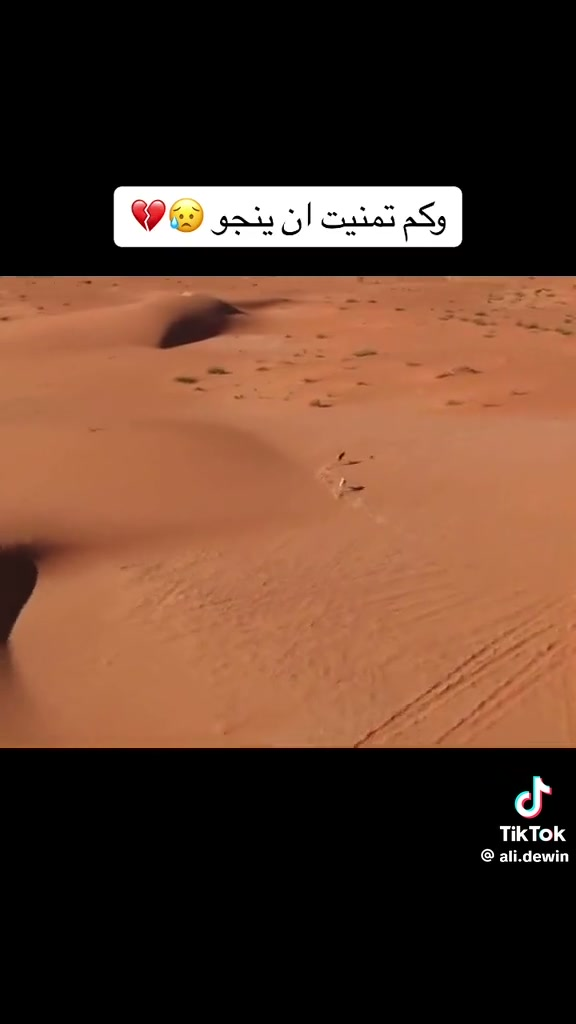animal: (333, 458, 379, 499)
vehicle_track: (354, 599, 562, 745), (435, 623, 575, 744), (435, 641, 564, 744)
